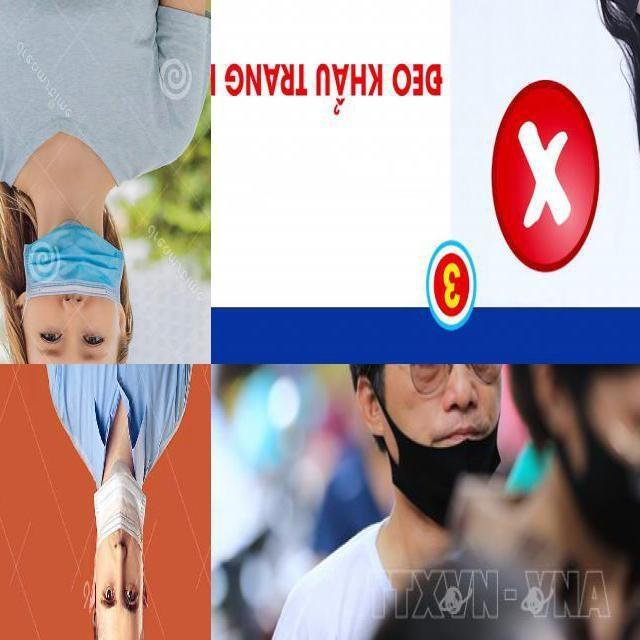hairnet: (365, 388, 504, 511), (14, 204, 137, 324), (79, 479, 166, 579)
